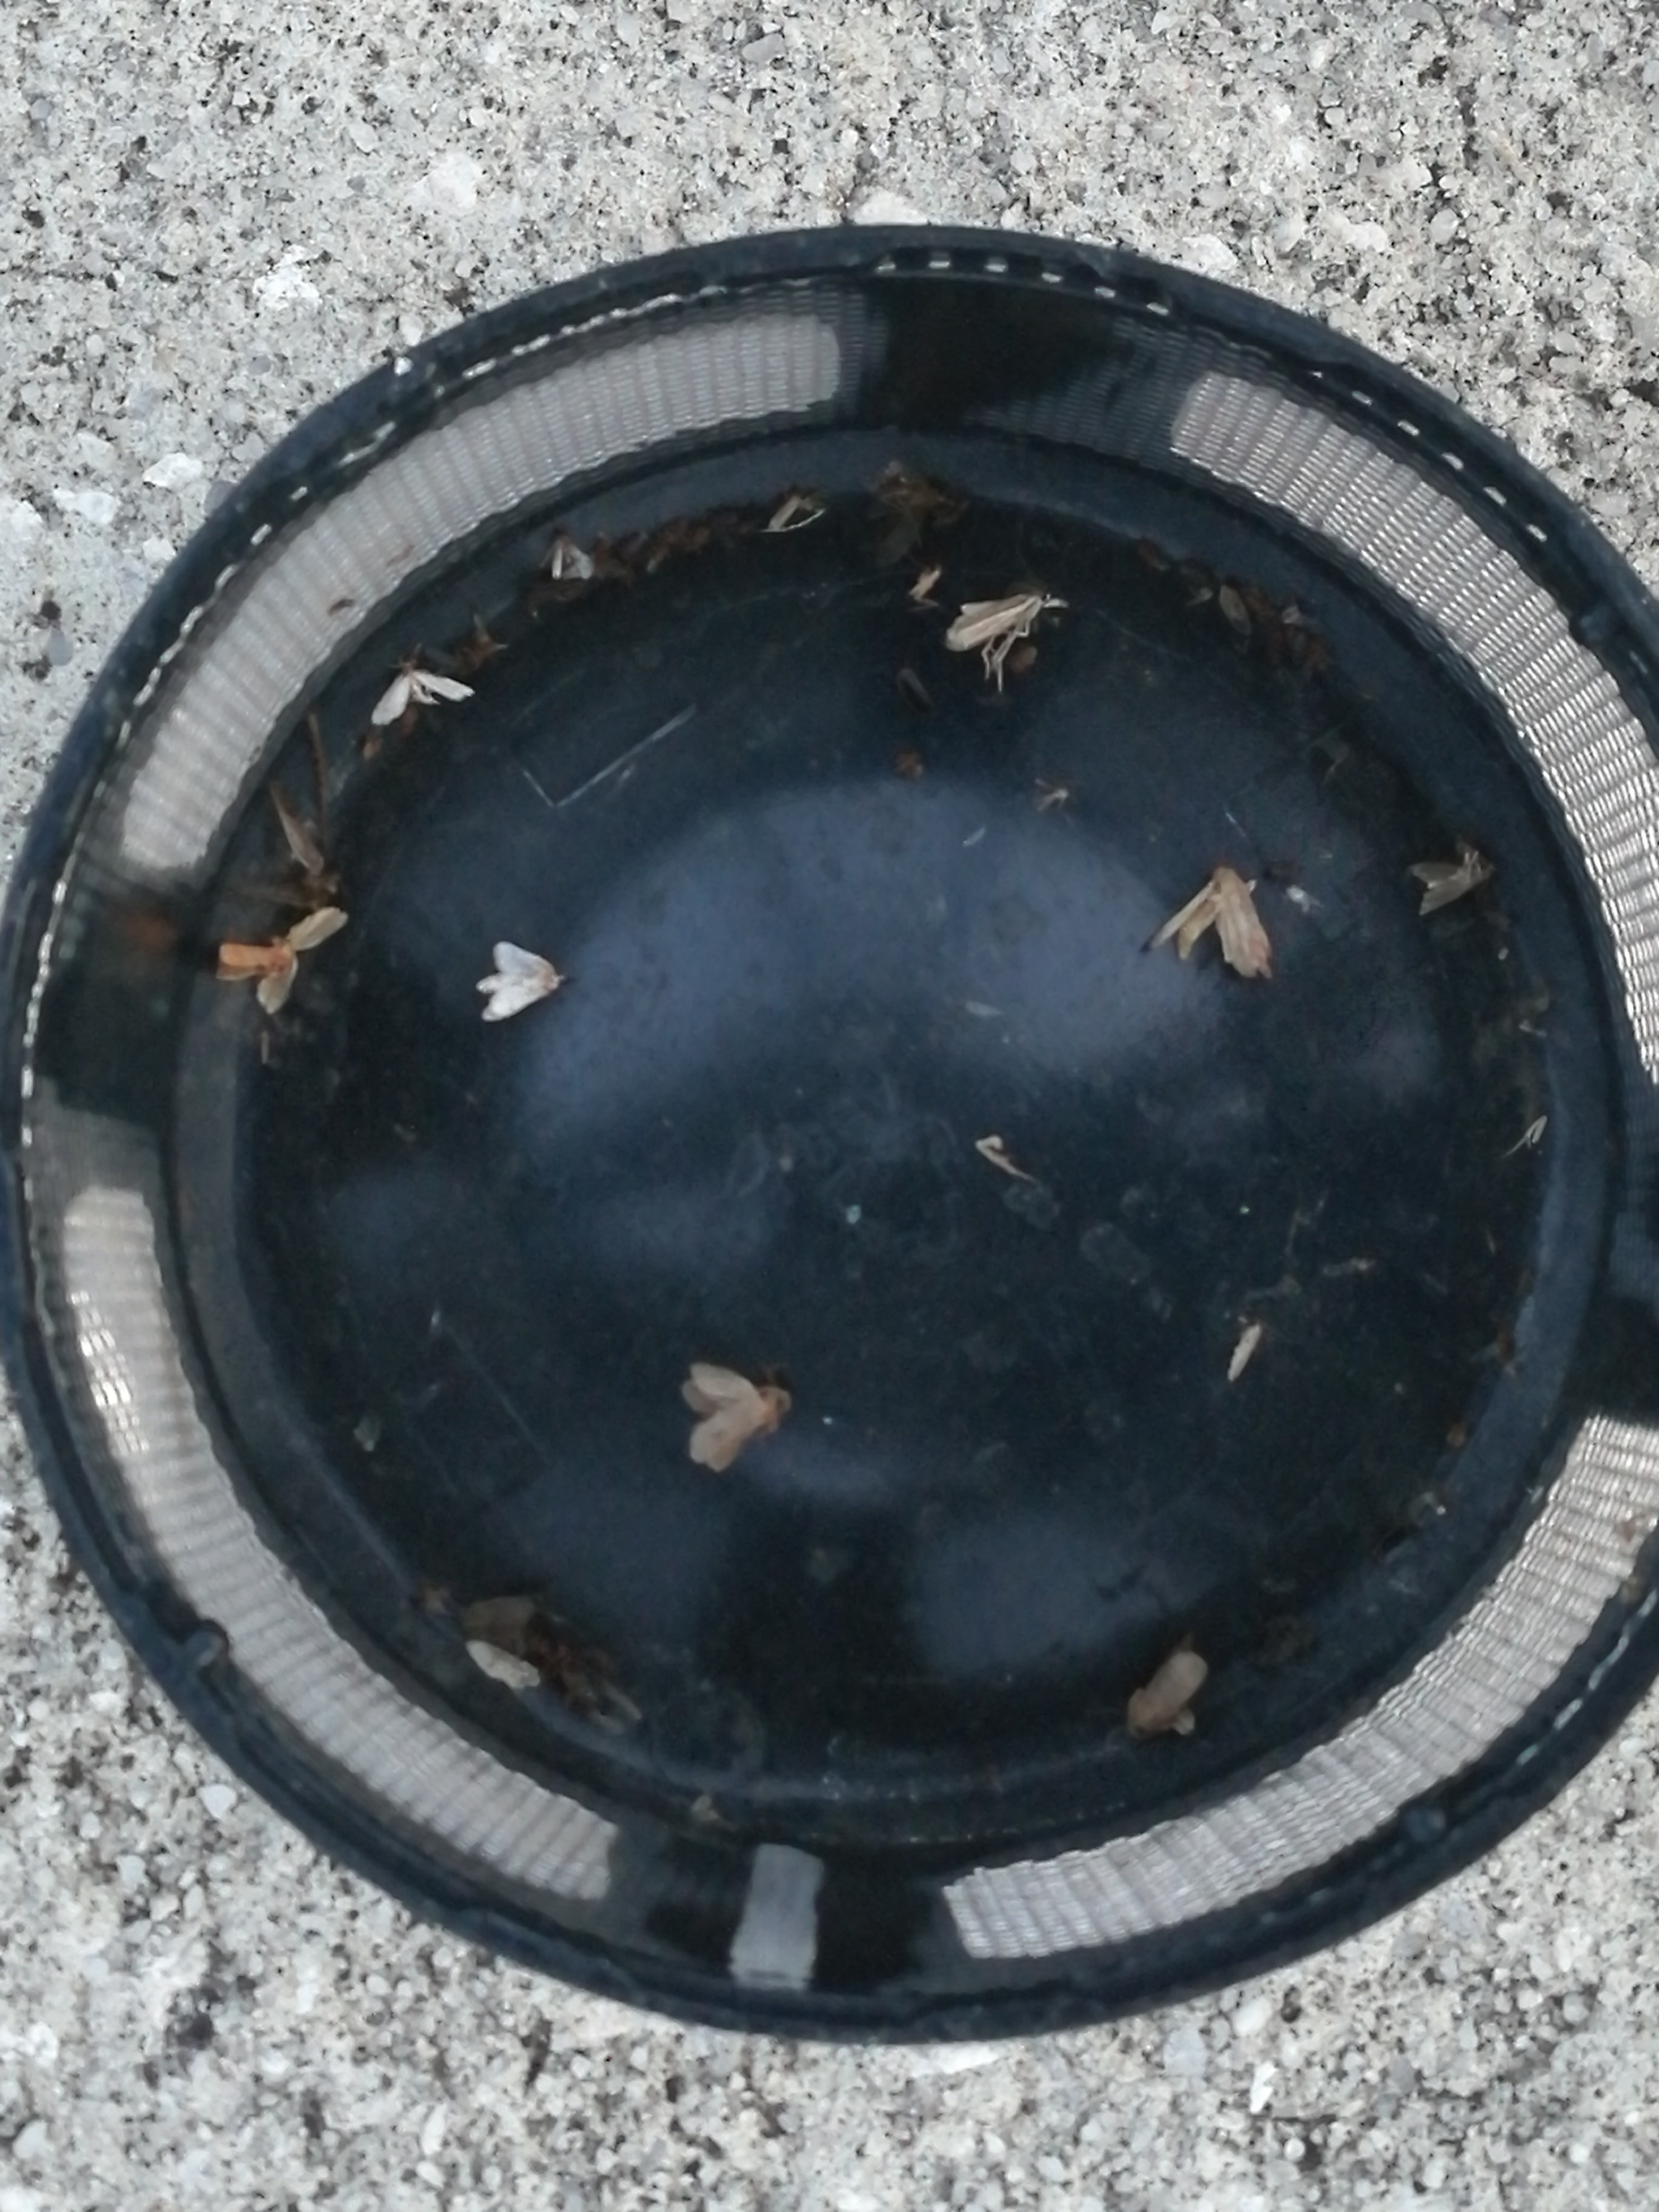moth: (1141, 866, 1274, 981), (681, 1364, 789, 1470), (477, 941, 558, 1021)
